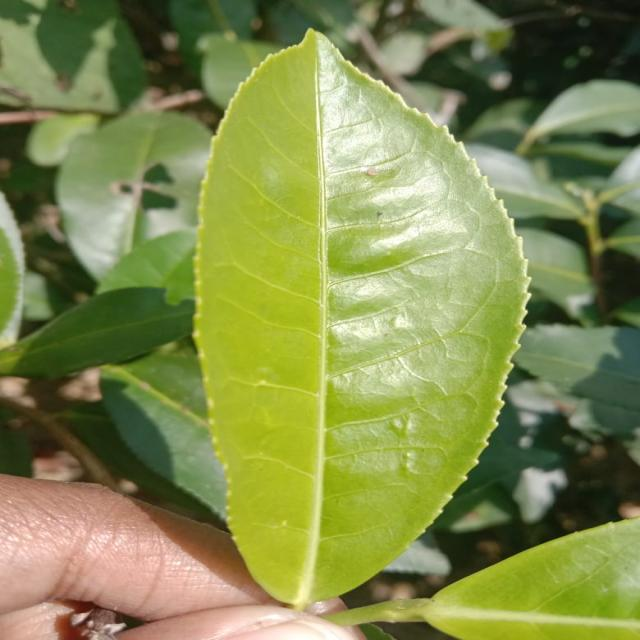Category B(2-4 days): (183, 22, 543, 614)
